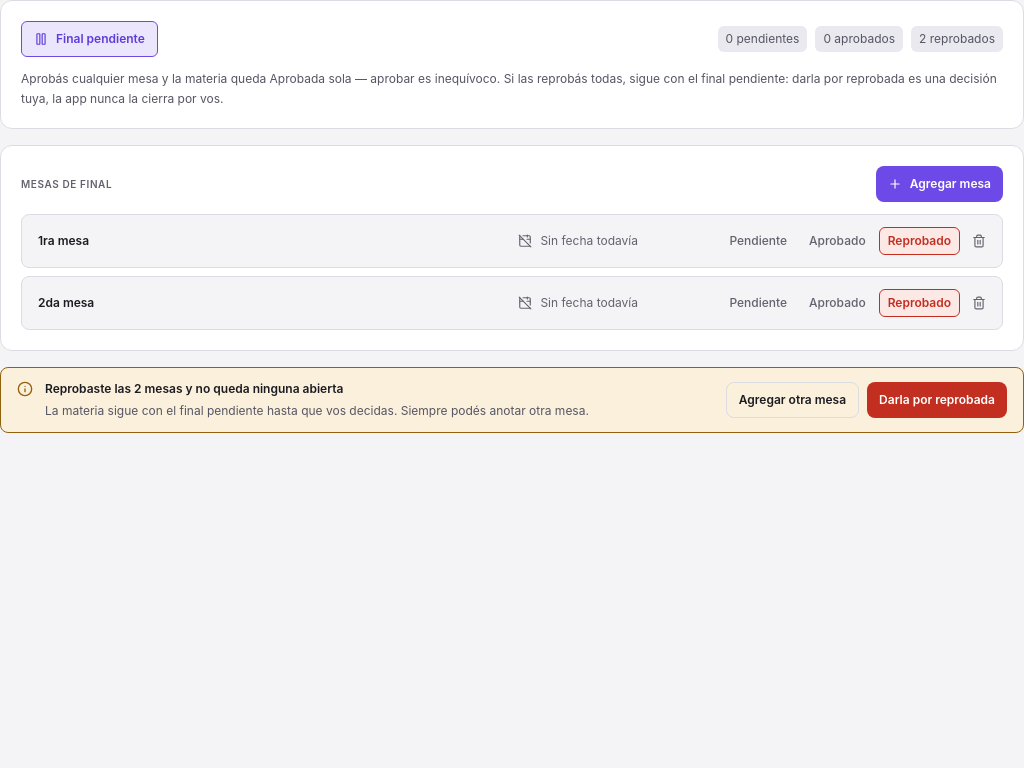
Test: FinalesContainer › Escape closes the give-up dialog without recording the outcome
Click the button "Darla por reprobada" at coordinates (937, 400), box [867, 382, 1007, 418]
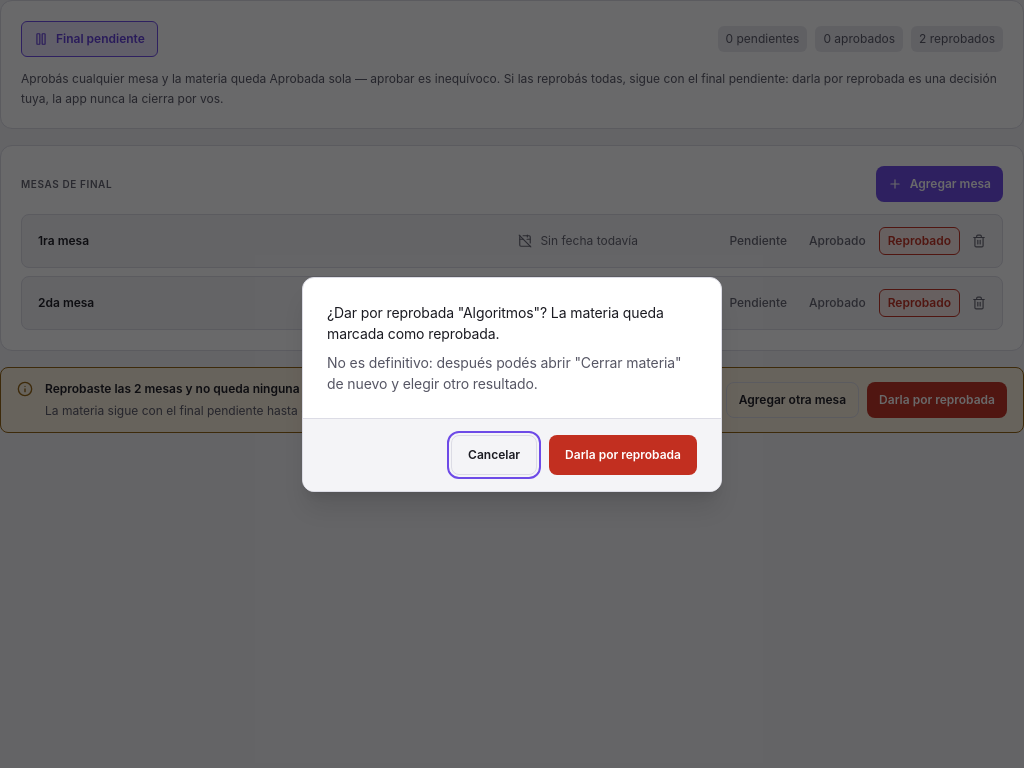
Press Escape in the dialog named "Dar por reprobada Algoritmos", box [302, 276, 722, 492]
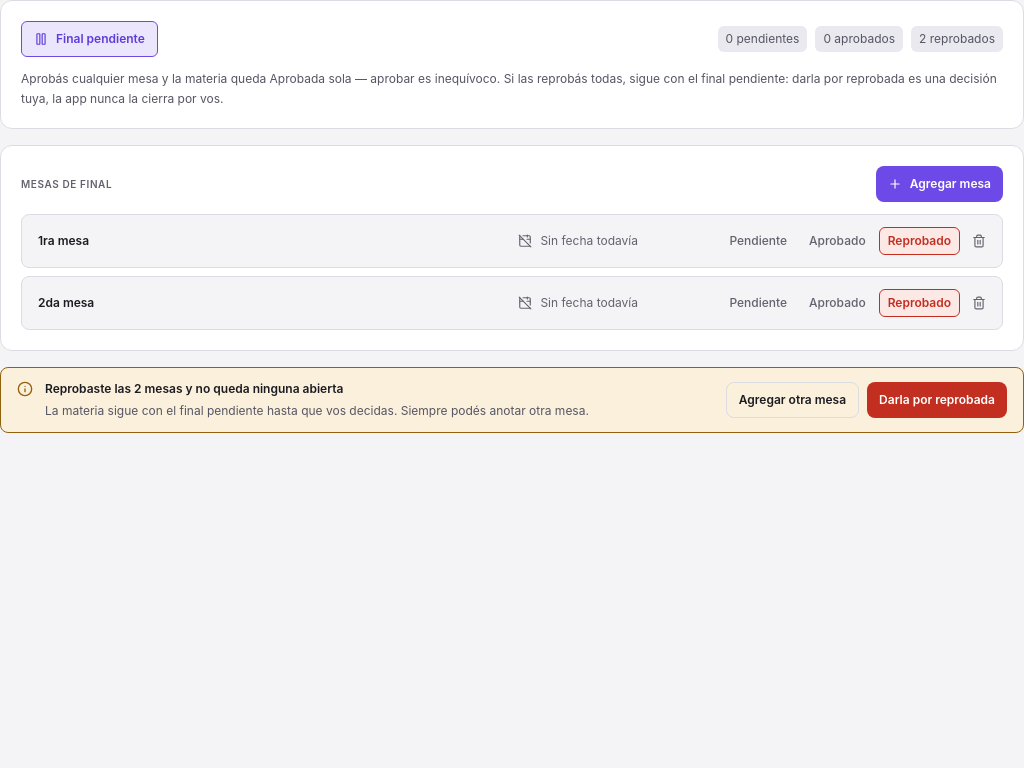
Now the dialog is gone
